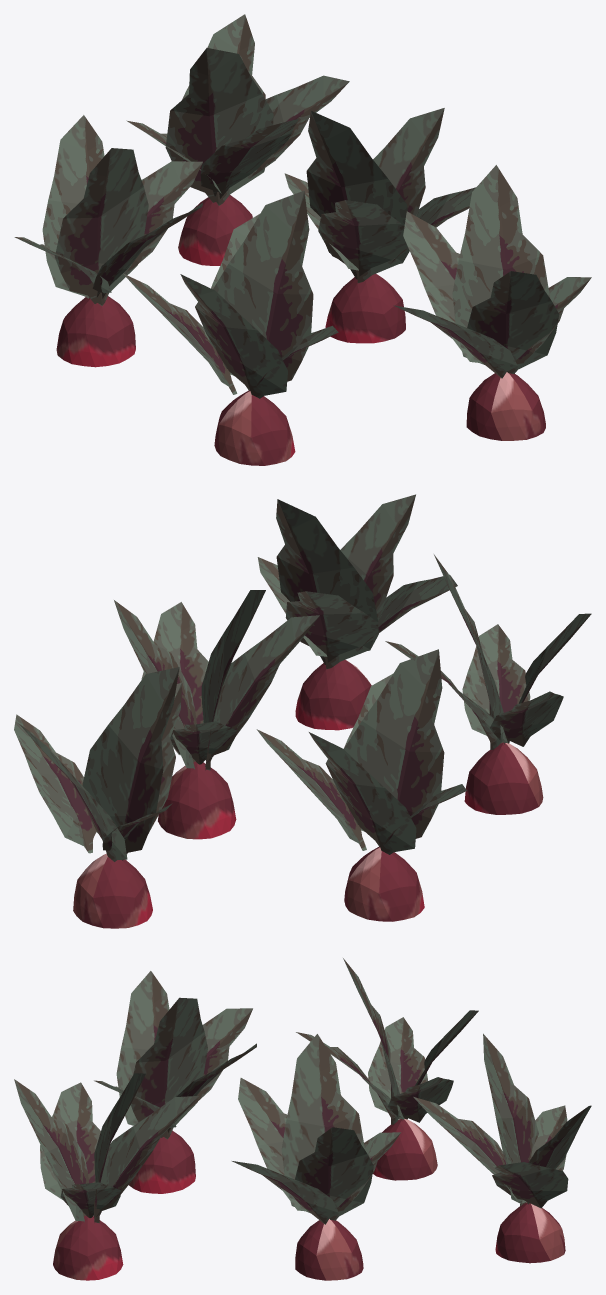
Rendered from amaranthaceae.glb.
The picture shows the model from 3 angles, top to bottom: view 1: azimuth 30°, elevation 25°; view 2: azimuth 150°, elevation 25°; view 3: azimuth 270°, elevation 25°; orthographic projection. The views are drawn at different scales.
Parts seen in each view (by area): view 1: Plane.004, Plane.002, Plane.001, Plane.000, Plane.003; view 2: Plane.001, Plane.003, Plane.004, Plane.000, Plane.002; view 3: Plane.000, Plane.004, Plane.002, Plane.003, Plane.001.
Part boxes in pixels (left/top/right/bottom): Plane.004: left=393, top=165, right=591, bottom=440; Plane.002: left=123, top=190, right=338, bottom=465; Plane.001: left=14, top=115, right=202, bottom=367; Plane.000: left=284, top=108, right=476, bottom=343; Plane.003: left=126, top=14, right=349, bottom=265; Plane.001: left=256, top=649, right=466, bottom=921; Plane.003: left=14, top=667, right=181, bottom=928; Plane.004: left=257, top=494, right=457, bottom=730; Plane.000: left=114, top=590, right=319, bottom=839; Plane.002: left=385, top=554, right=591, bottom=814; Plane.000: left=232, top=1034, right=400, bottom=1280; Plane.004: left=14, top=1073, right=198, bottom=1280; Plane.002: left=94, top=971, right=256, bottom=1193; Plane.003: left=413, top=1033, right=591, bottom=1263; Plane.001: left=296, top=958, right=478, bottom=1180.
Bounding box in the file's own units: 1.63 × 0.9488 × 2.38.
30 materials, 30 textured.
